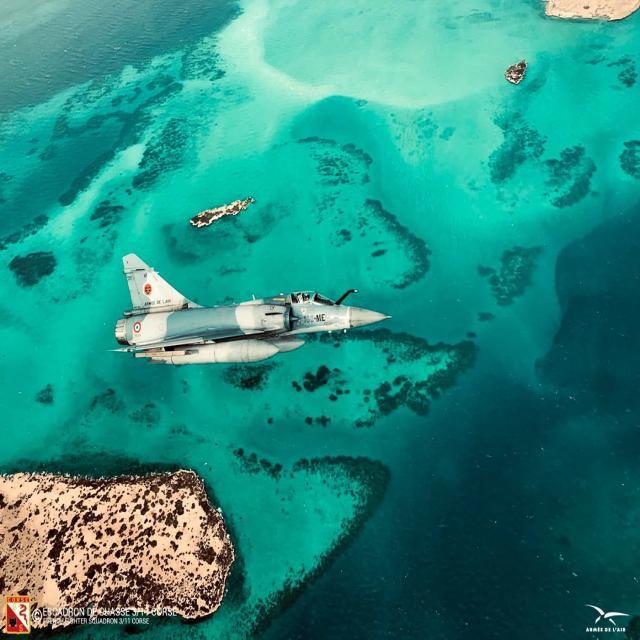MIL_Plane: (105, 252, 392, 365)
